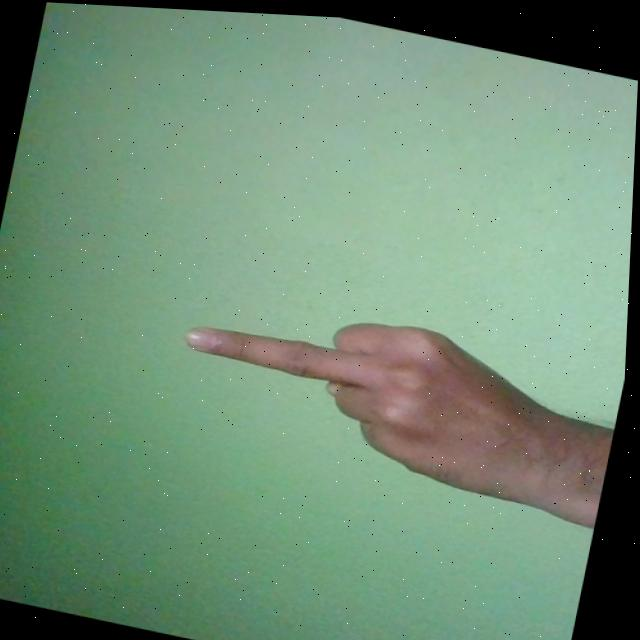Middle Finger: (166, 275, 614, 510)
